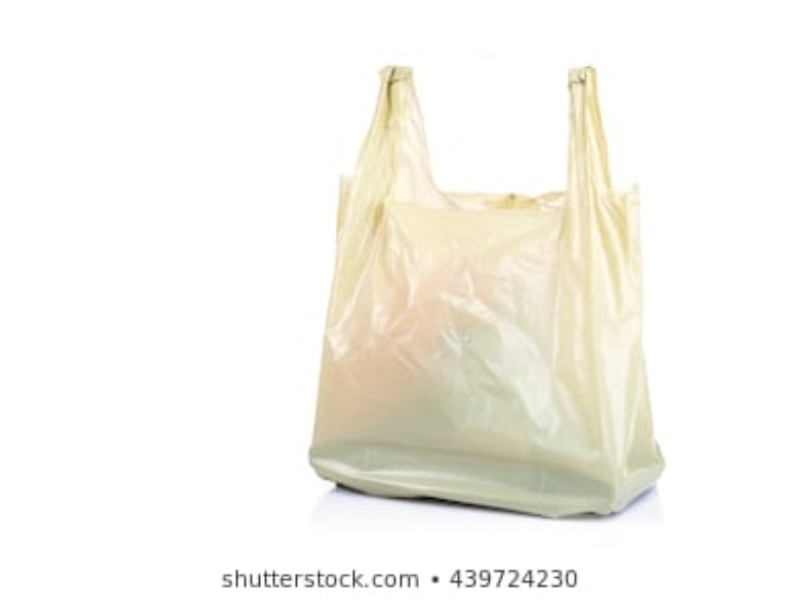plastic-bag: (302, 49, 678, 520)
